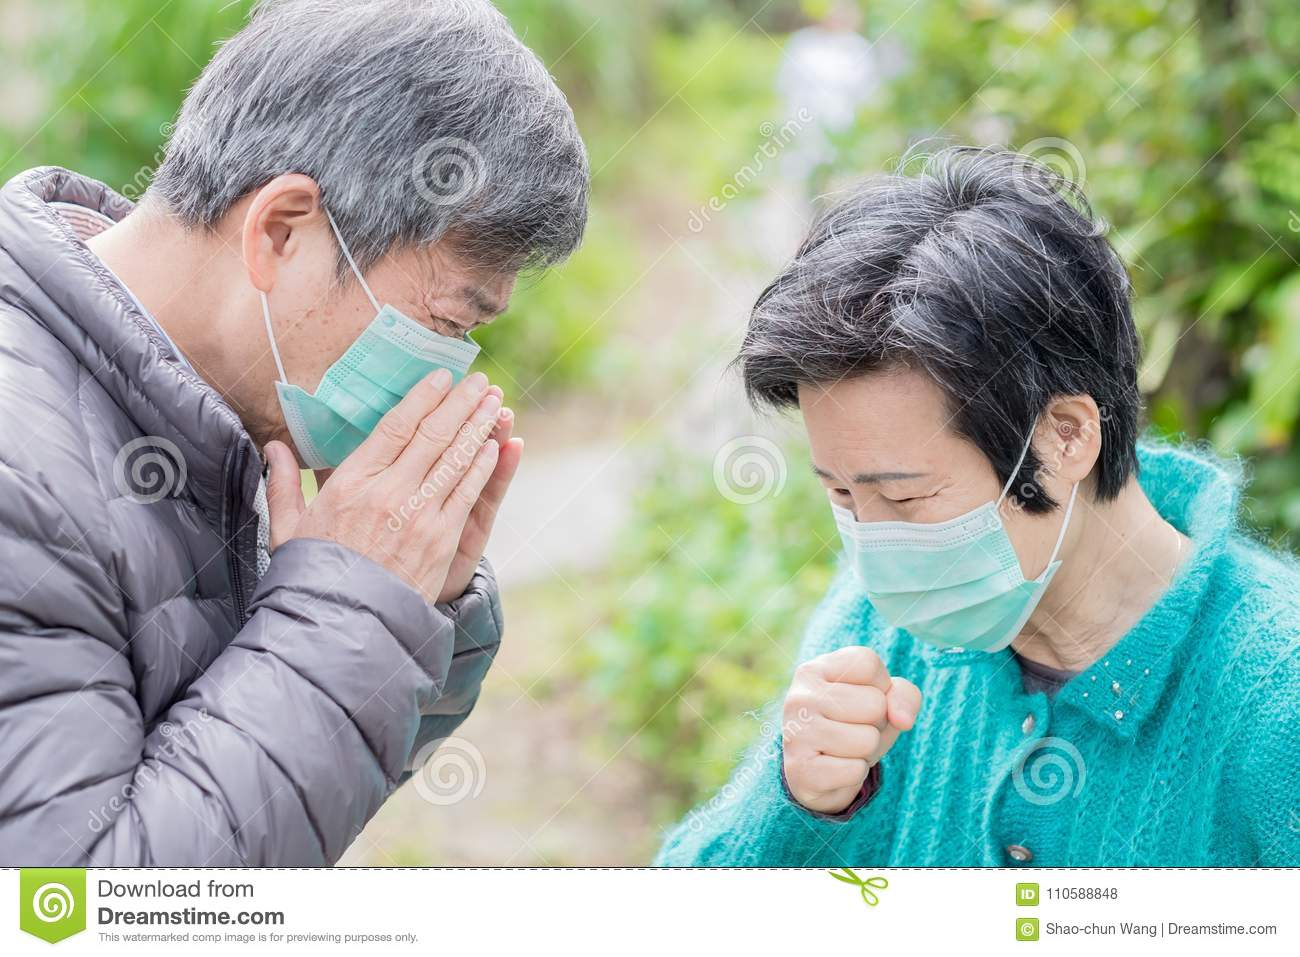mask: (833, 510, 1044, 671), (307, 308, 489, 451)
